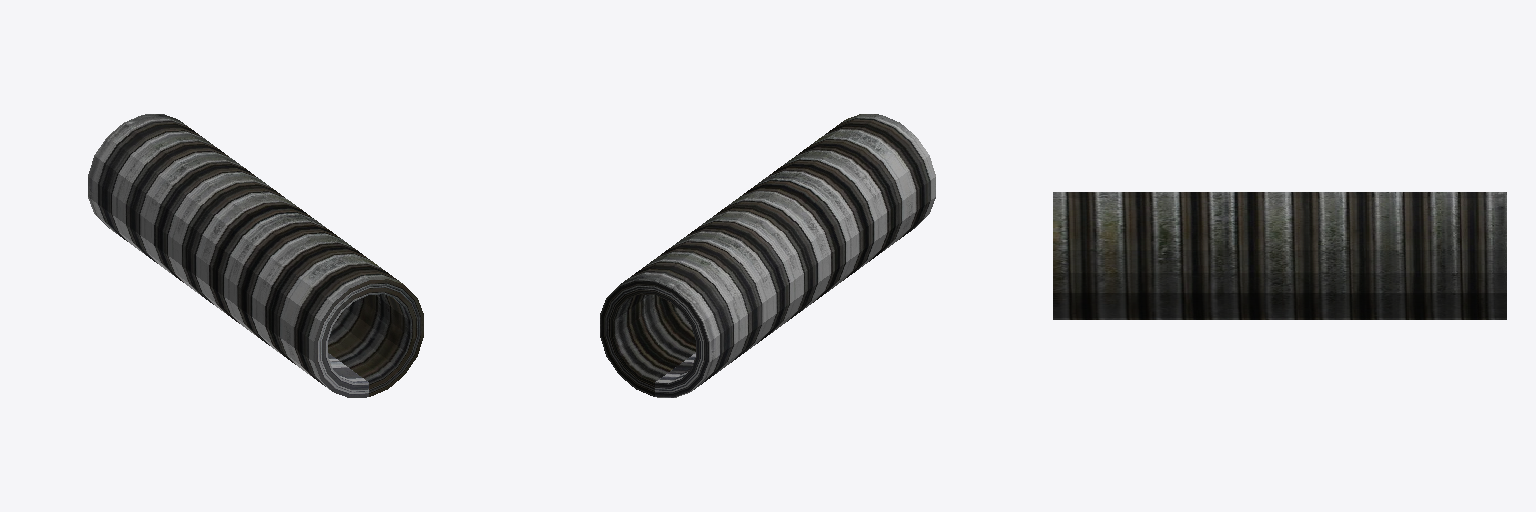
3 views of the same model, side by side, from view 1: azimuth 30°, elevation 25°; view 2: azimuth 150°, elevation 25°; view 3: azimuth 270°, elevation 25° (orthographic).
Parts seen in each view (by area): view 1: Tube001; view 2: Tube001; view 3: Tube001.
Boxes of the visible parts, x1=… form: Tube001: x1=88, y1=114, x2=423, y2=397; Tube001: x1=600, y1=114, x2=935, y2=397; Tube001: x1=1053, y1=192, x2=1506, y2=319.
Bounding box in the file's own units: 0.3456 × 0.351 × 1.23.
1 materials, 1 textured.